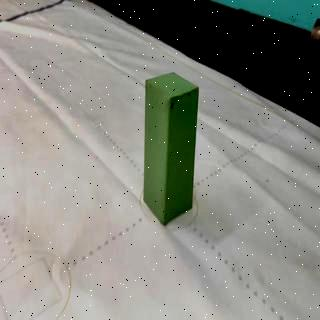greenbox: (142, 70, 200, 227)
